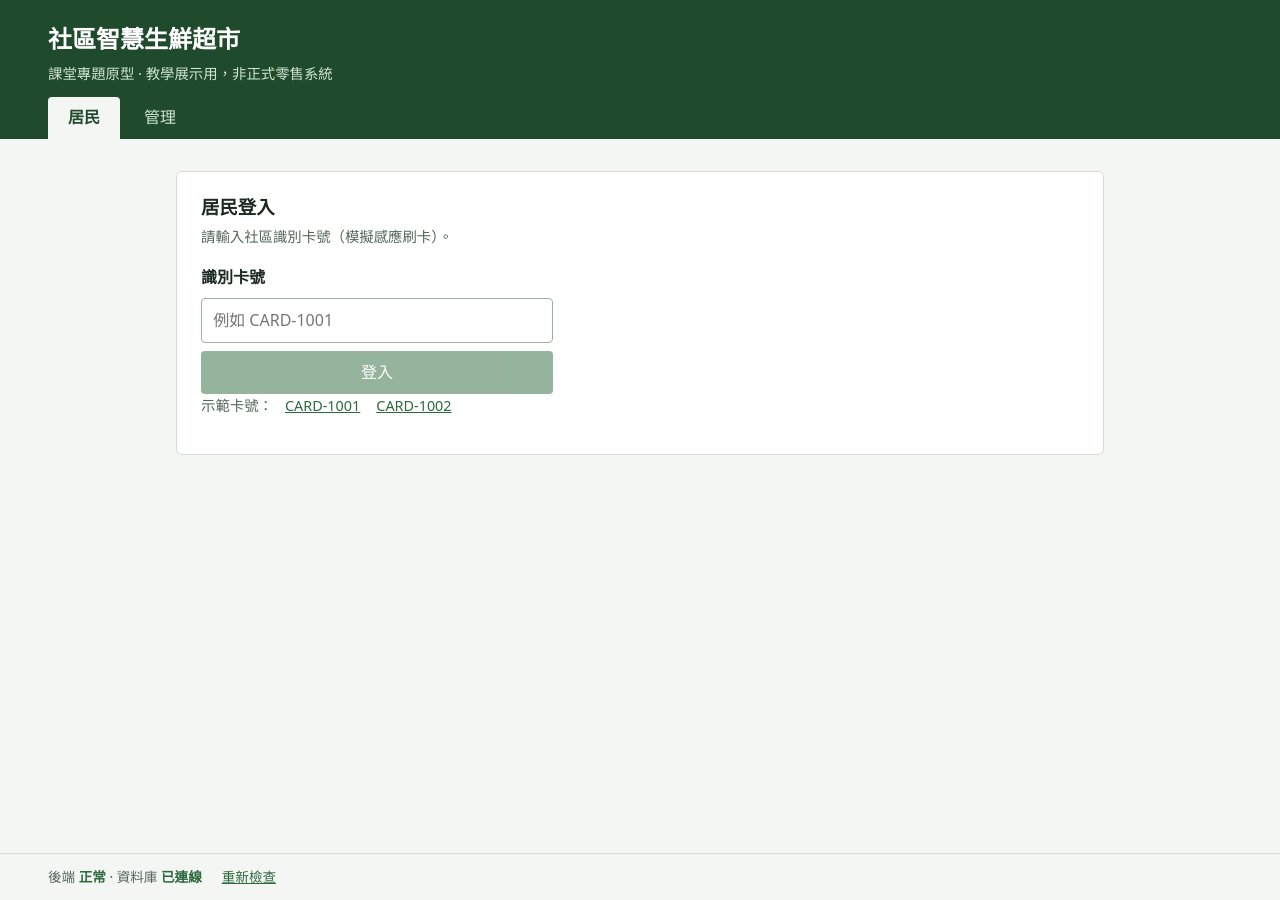
Test: a paid order shows the receipt, empties the cart and refreshes stock
This screenshot has width=1280, height=900.
Step 1. Type "CARD-1001" into the field labelled "識別卡號" → coordinates (377, 321), box [201,298,553,343]
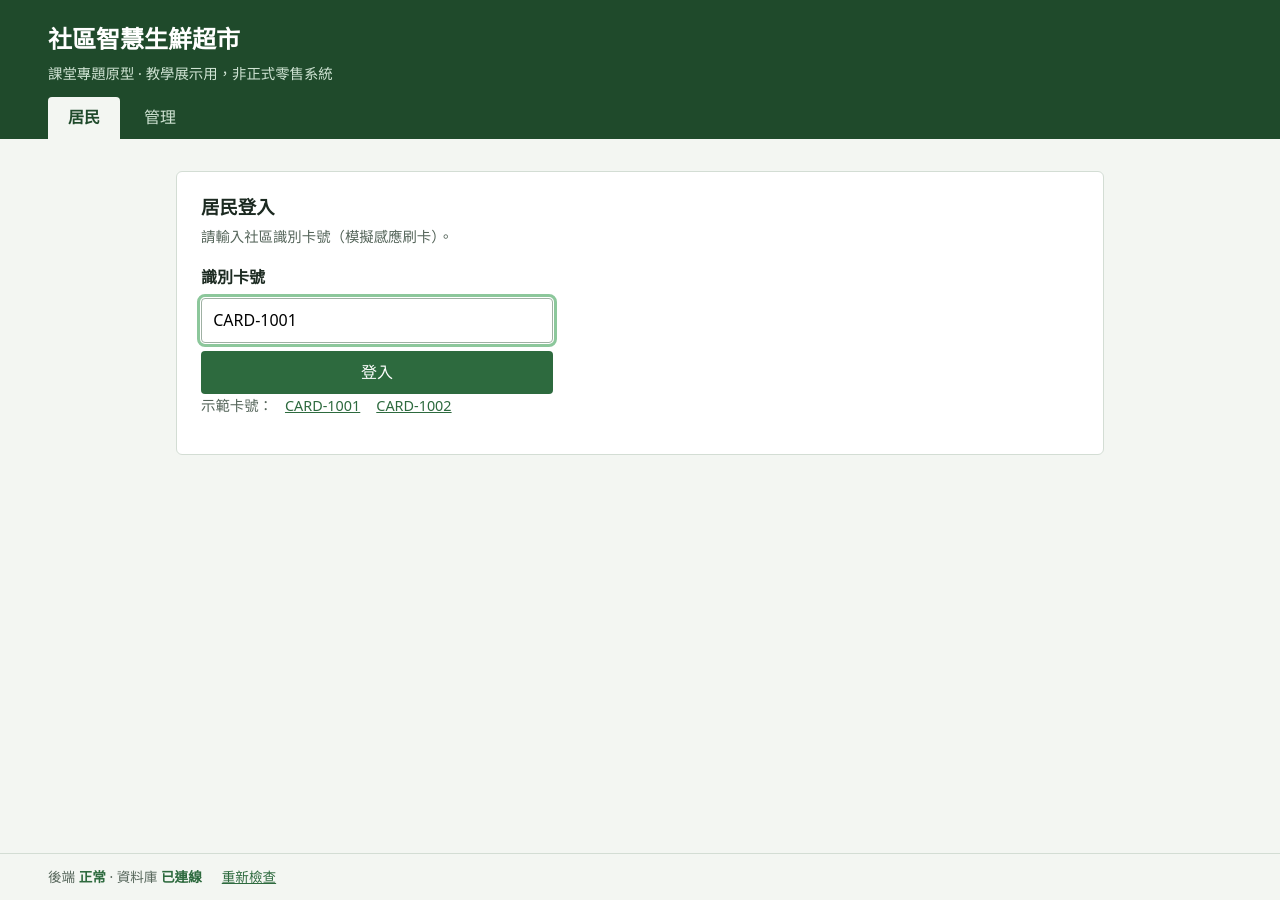
Step 2. Click the button "登入" → coordinates (377, 373), box [201,351,553,394]
(page scrolled)
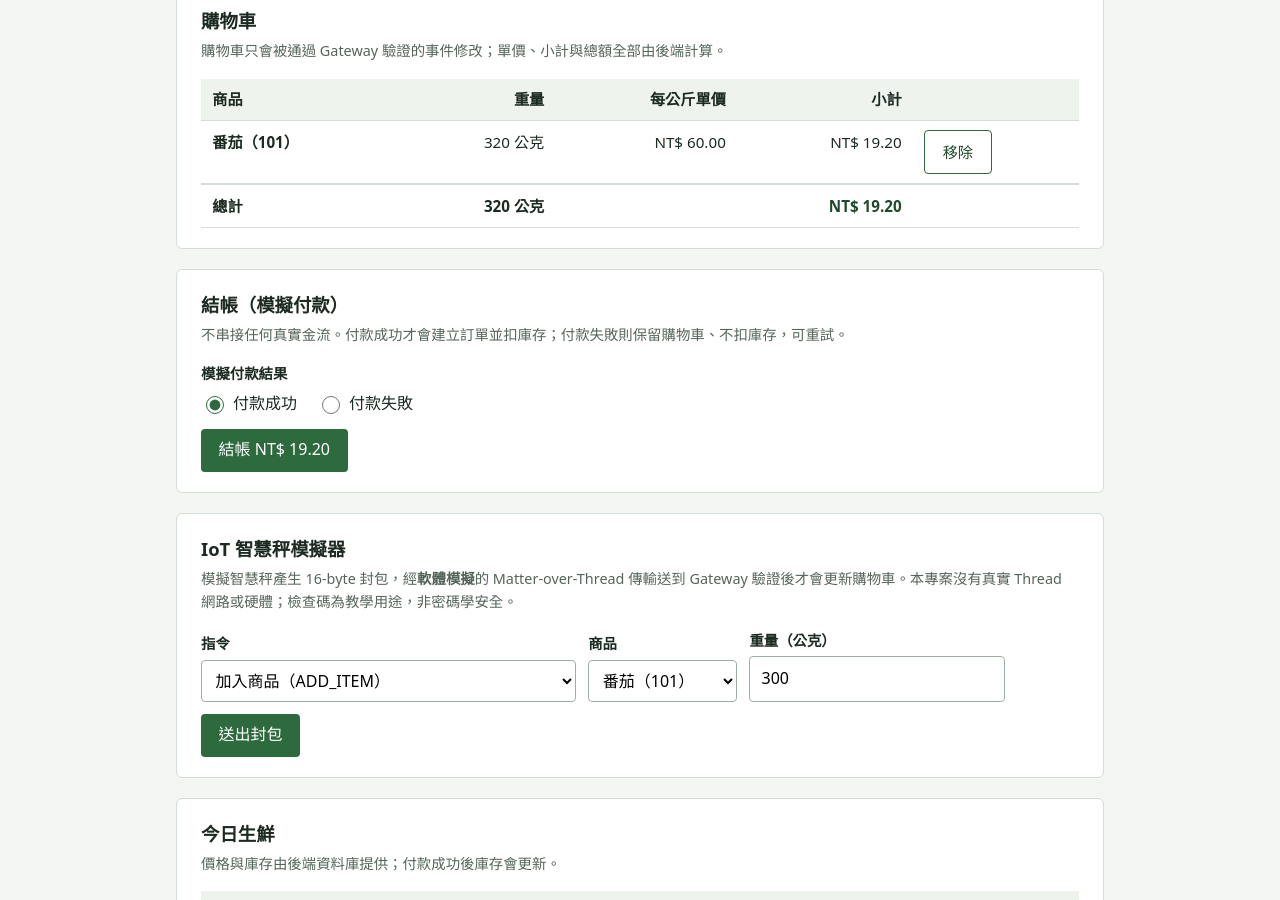
Step 3. Click the button "結帳 NT$ 19.20" → coordinates (274, 450), box [201,429,348,472]
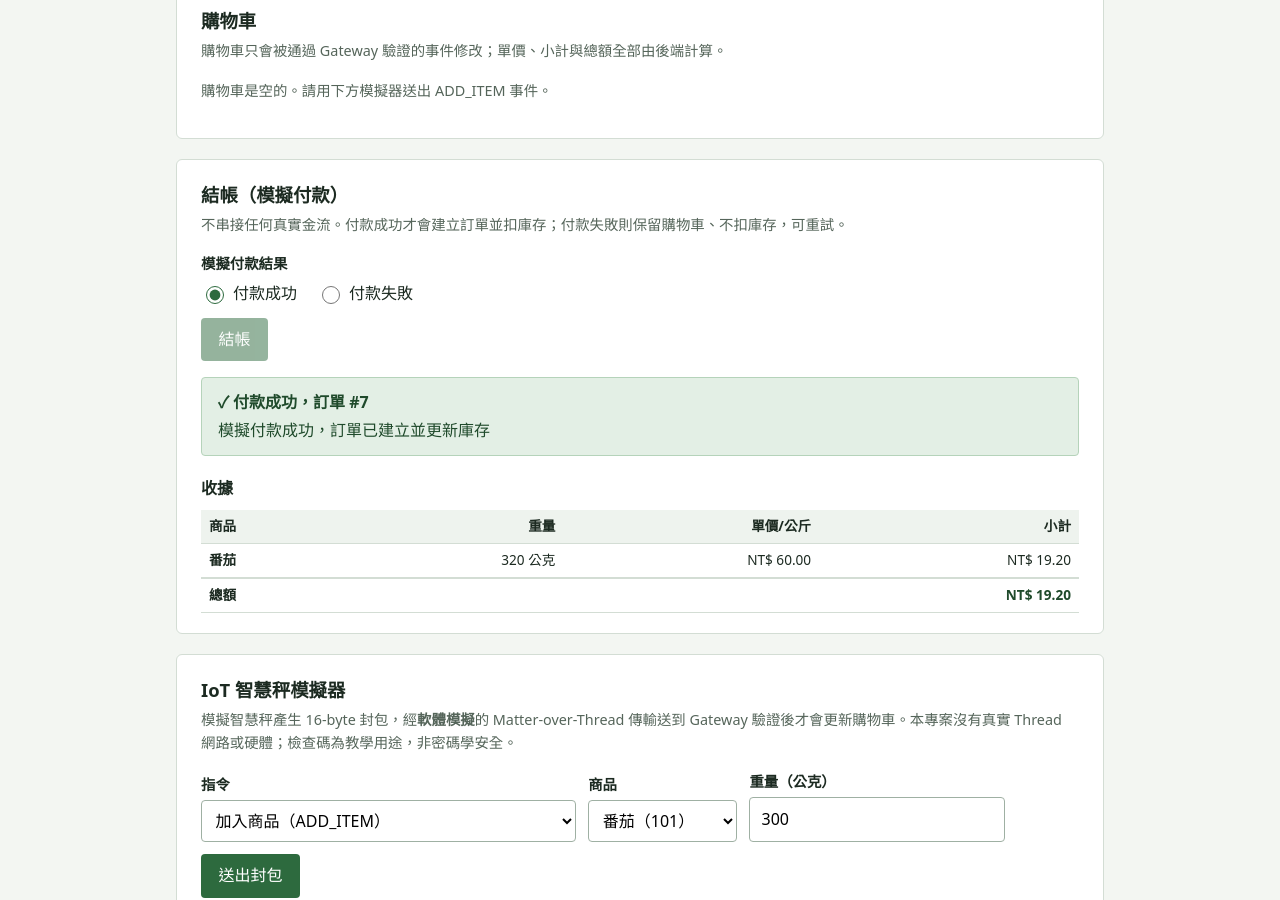
Expected: the 2nd text "NT$ 19.20" is shown, [819,578,1079,612]
Expected: the text "✓ 付款成功，訂單 #7" is shown, [218,391,369,413]
Expected: the text "購物車是空的。請用下方模擬器送出 ADD_ITEM 事件。" is shown, [201,80,552,100]
